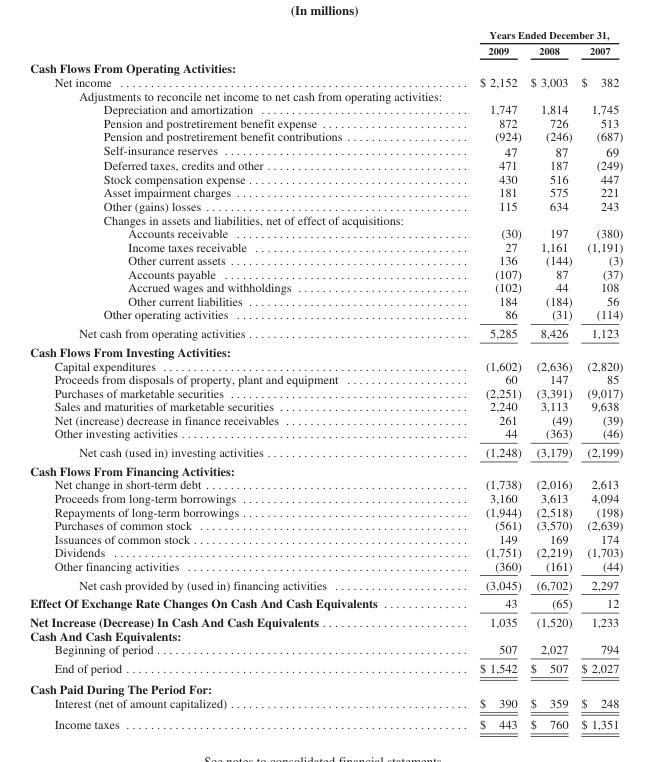table: (29, 28, 622, 730)
table column: (29, 28, 427, 730), (427, 28, 525, 730), (525, 28, 576, 730), (576, 28, 622, 730)
table column header: (29, 28, 622, 58)
table projected row header: (29, 678, 622, 695), (29, 58, 622, 74), (29, 342, 622, 358), (29, 461, 622, 477), (29, 88, 622, 102), (29, 212, 622, 226), (29, 628, 622, 642)
table row: (29, 658, 622, 678), (29, 323, 622, 342), (29, 442, 622, 461), (29, 574, 622, 593), (29, 593, 622, 612), (29, 695, 622, 713), (29, 678, 622, 695), (29, 713, 622, 730), (29, 42, 622, 58), (29, 58, 622, 74), (29, 142, 622, 158), (29, 307, 622, 323), (29, 342, 622, 358), (29, 426, 622, 442), (29, 461, 622, 477), (29, 558, 622, 574), (29, 612, 622, 628), (29, 642, 622, 658), (29, 28, 622, 42), (29, 74, 622, 88), (29, 88, 622, 102), (29, 115, 622, 129), (29, 171, 622, 185), (29, 185, 622, 199), (29, 212, 622, 226), (29, 239, 622, 253), (29, 266, 622, 280), (29, 293, 622, 307), (29, 358, 622, 372), (29, 385, 622, 399), (29, 412, 622, 426), (29, 490, 622, 504), (29, 504, 622, 518), (29, 531, 622, 545), (29, 628, 622, 642), (29, 102, 622, 115), (29, 129, 622, 142), (29, 158, 622, 171), (29, 199, 622, 212), (29, 226, 622, 239), (29, 253, 622, 266), (29, 280, 622, 293), (29, 372, 622, 385), (29, 399, 622, 412), (29, 477, 622, 490), (29, 518, 622, 531), (29, 545, 622, 558)
table spanning cell: (427, 28, 622, 42)
